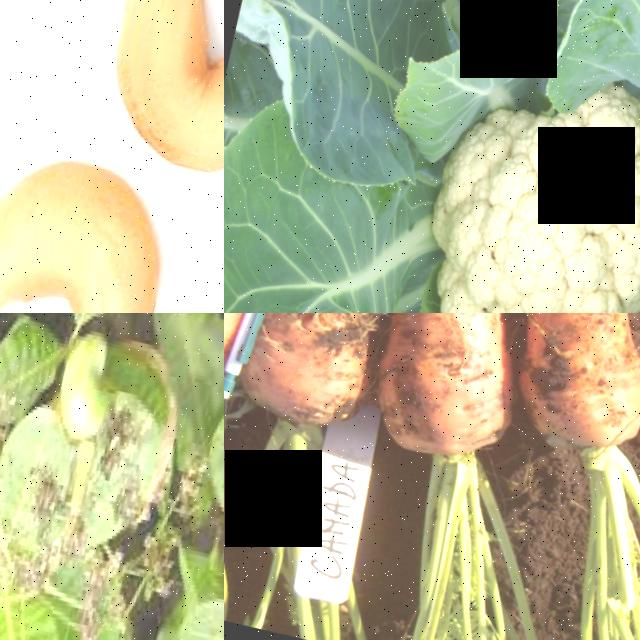carrot: (368, 313, 553, 464), (500, 313, 640, 473), (278, 313, 422, 418)
cashew: (0, 142, 195, 313), (77, 3, 224, 190), (42, 318, 124, 442)
cauliflower: (273, 0, 640, 313)
